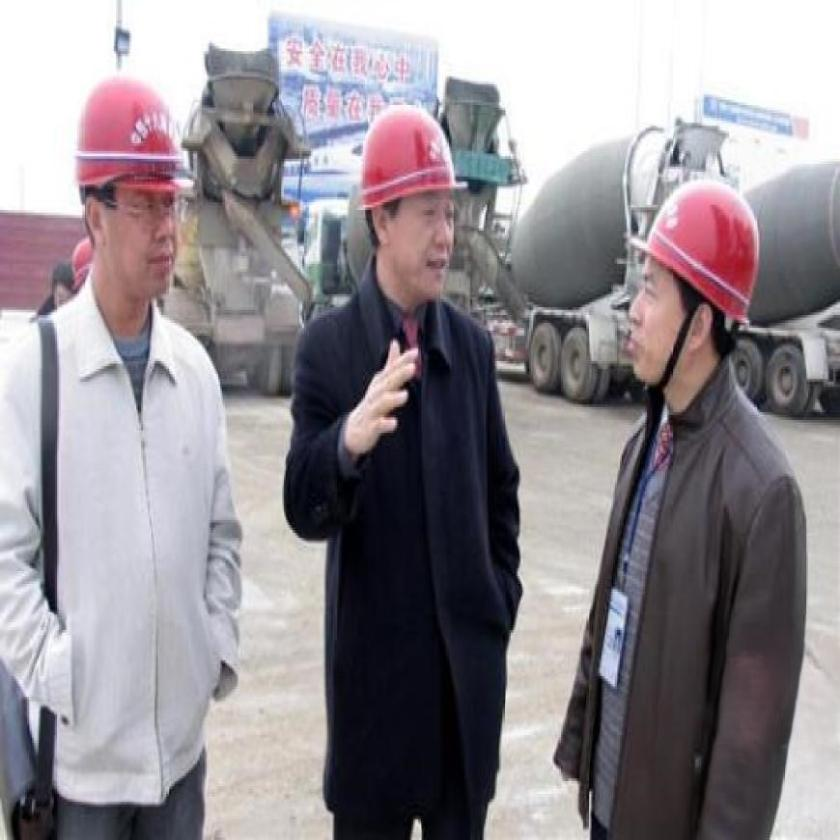Con_casco: (46, 52, 205, 316), (624, 166, 787, 416), (334, 110, 509, 342)
